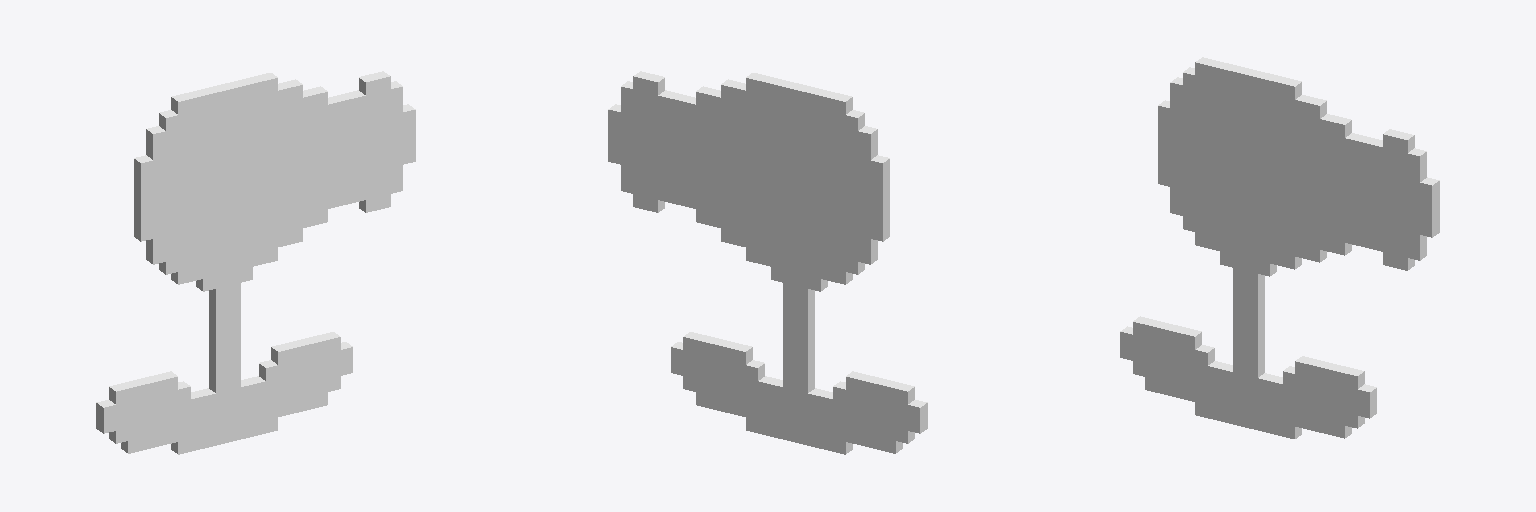
File: Plant1Peashooter.obj
3 renders of one model, left to right at view 1: azimuth 30°, elevation 25°; view 2: azimuth 150°, elevation 25°; view 3: azimuth 330°, elevation 25°, orthographic.
Visible parts, largest first — view 1: object 1; view 2: object 1; view 3: object 1.
Boxes of the visible parts, box(x1,y1,x2,y2) form: object 1: box(96, 71, 415, 454); object 1: box(608, 71, 927, 454); object 1: box(1120, 57, 1439, 438).
Size of the model in its own units: 2.5 by 2.7 by 0.1.